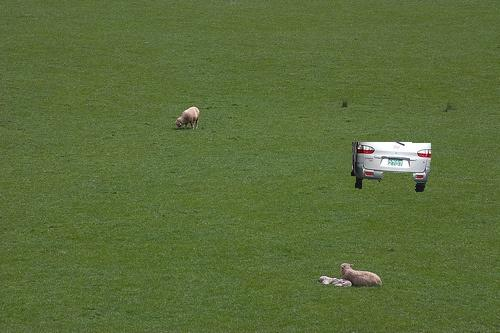tampered: (352, 143, 431, 192)
